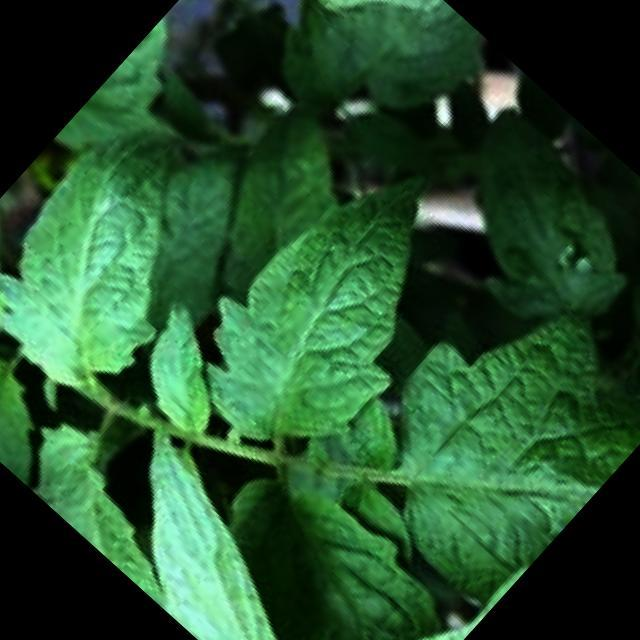Tomato healthy leaf: (329, 201, 640, 609), (160, 130, 510, 490), (0, 91, 272, 414), (66, 425, 388, 640), (188, 444, 471, 640), (106, 297, 260, 449), (0, 348, 76, 485)
